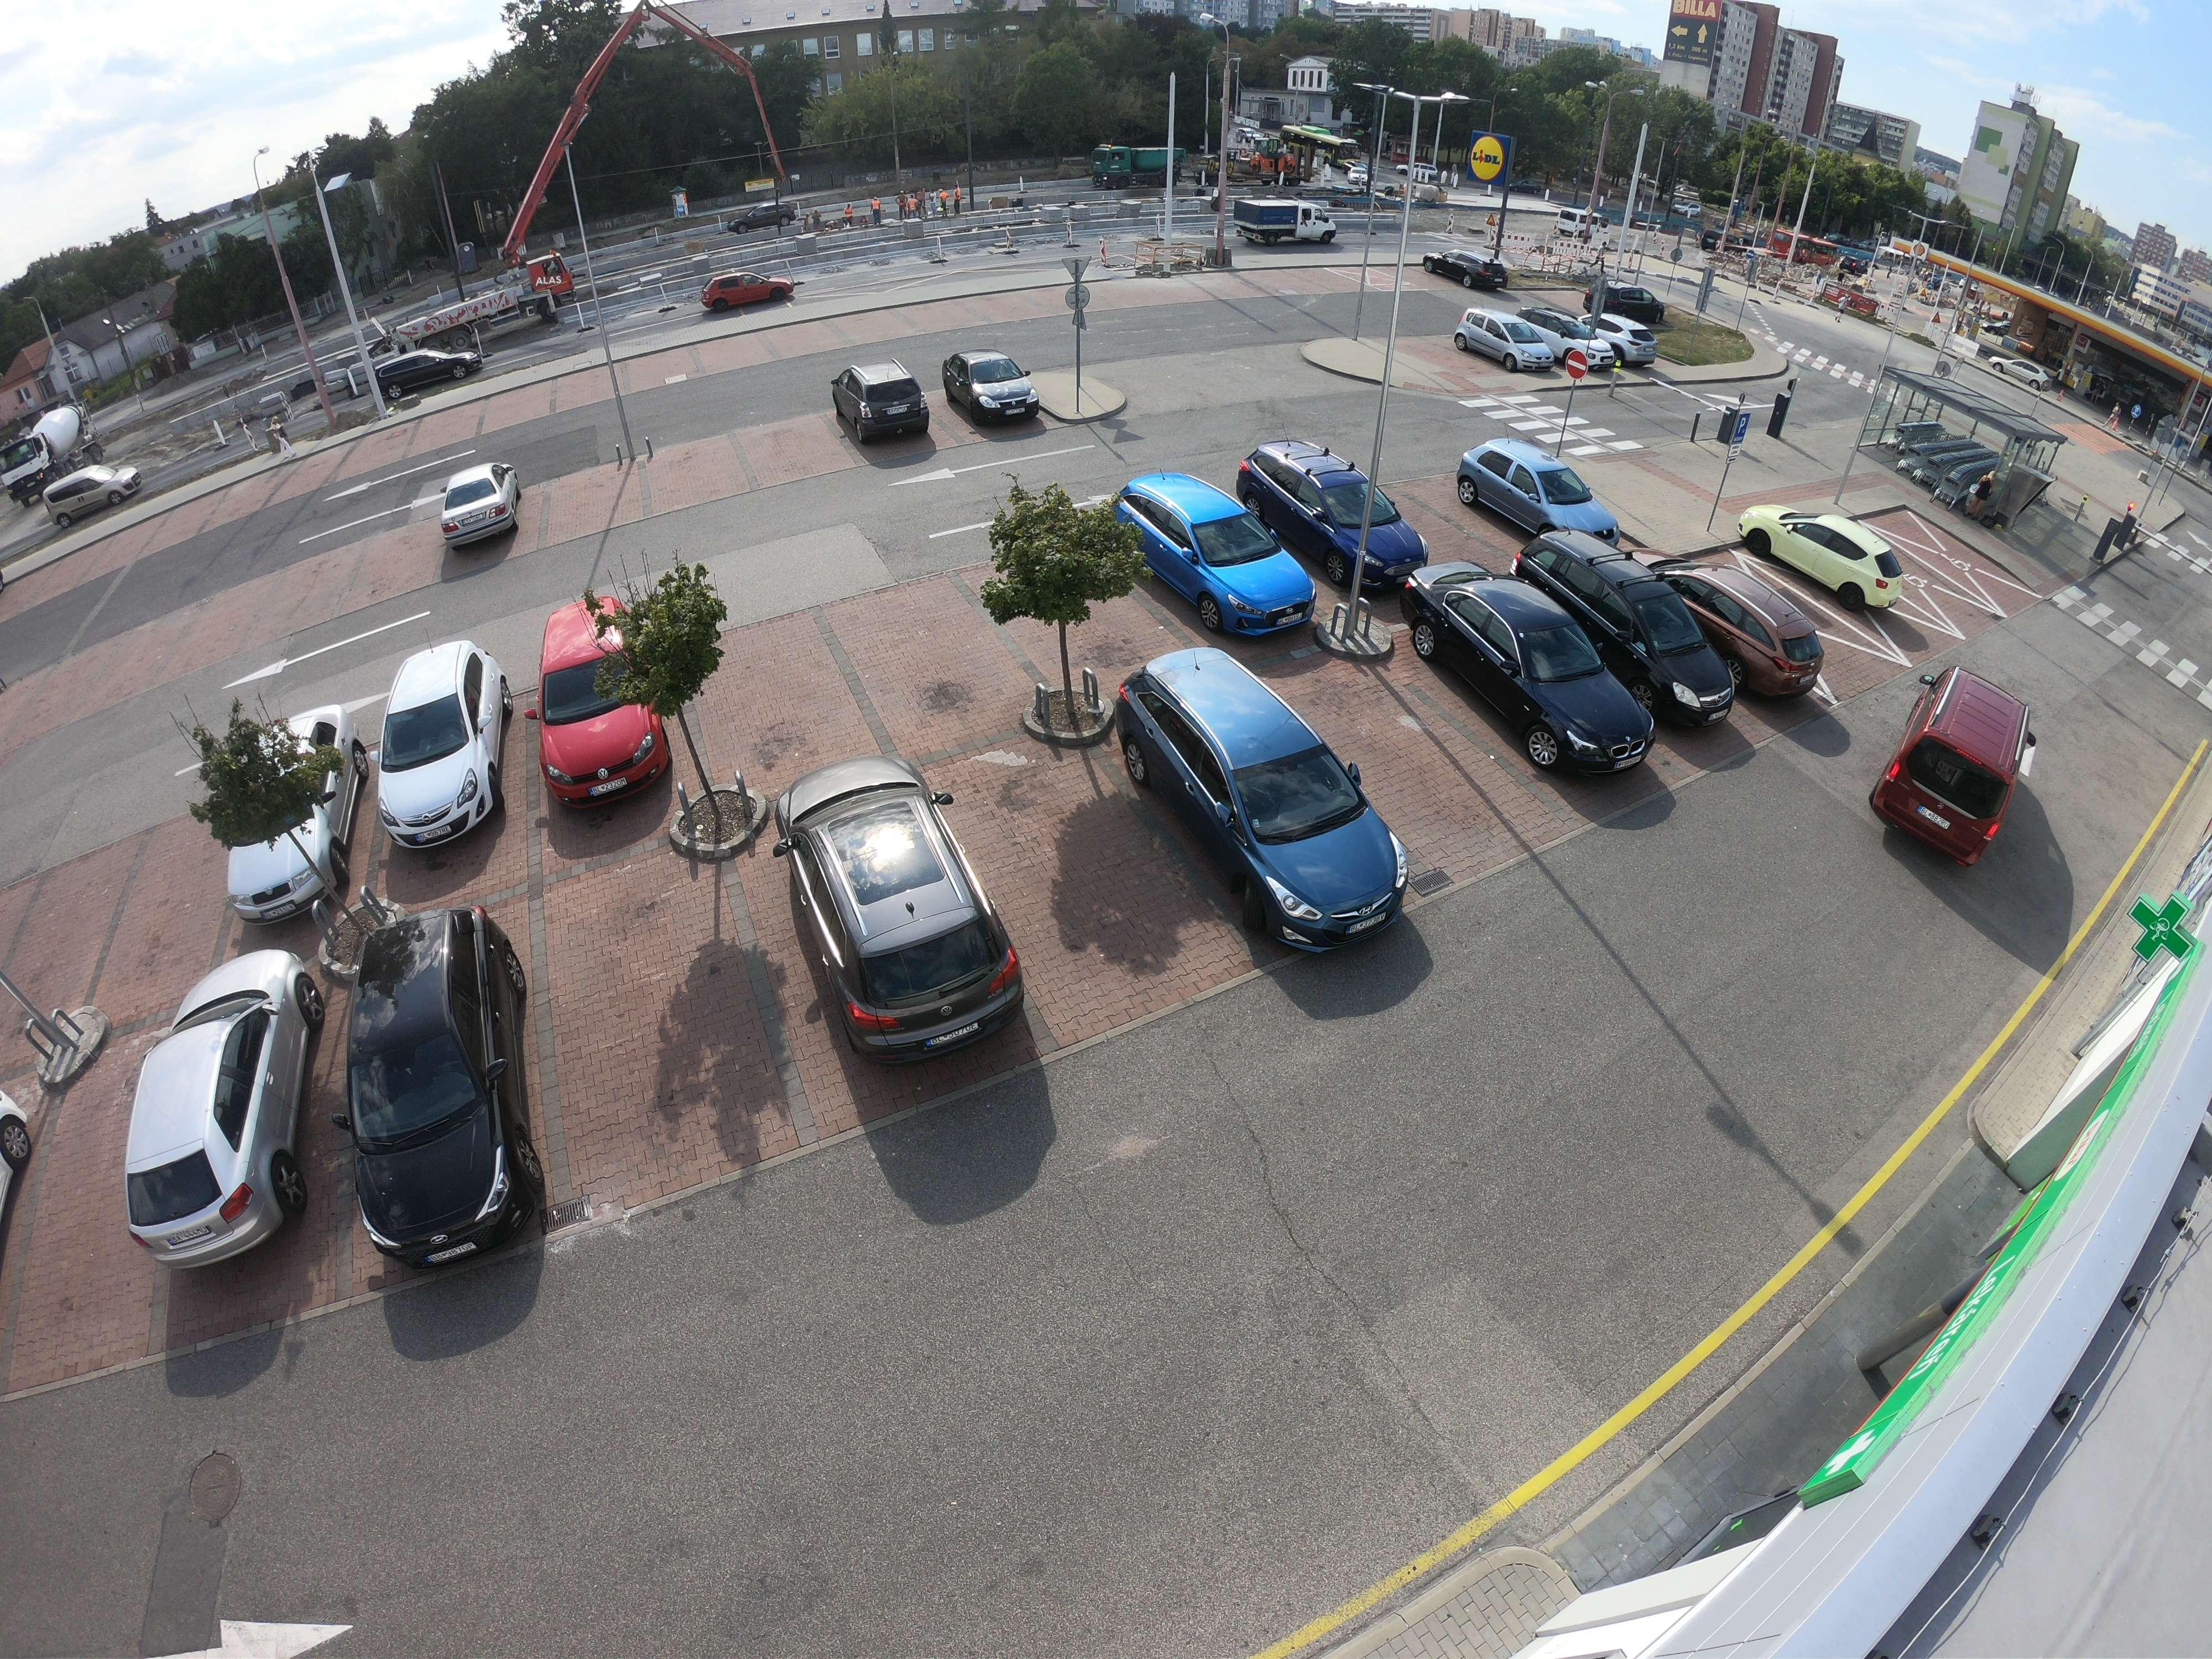empty: (289, 908, 570, 1265), (1118, 650, 1416, 946), (775, 765, 1028, 1070), (99, 960, 322, 1283), (1413, 577, 1656, 777), (345, 640, 528, 863), (188, 718, 369, 915), (1104, 476, 1317, 638), (517, 601, 678, 812), (1554, 556, 1737, 728), (1876, 662, 2026, 859), (1662, 558, 1836, 699), (1254, 444, 1433, 577), (1764, 507, 1928, 627), (1461, 444, 1615, 542), (434, 462, 531, 563), (833, 366, 941, 453), (942, 354, 1050, 432), (1451, 303, 1566, 373), (1533, 305, 1609, 368)
occupied: (543, 911, 740, 1082), (14, 1145, 143, 1300), (1000, 803, 1143, 929), (859, 598, 1005, 708), (1325, 699, 1458, 810), (716, 659, 846, 756), (115, 868, 226, 971), (28, 911, 117, 993), (138, 622, 219, 688), (744, 429, 829, 481), (364, 535, 434, 598), (648, 457, 726, 511), (286, 559, 357, 617), (1395, 497, 1474, 549), (538, 483, 615, 532), (221, 594, 277, 636)
